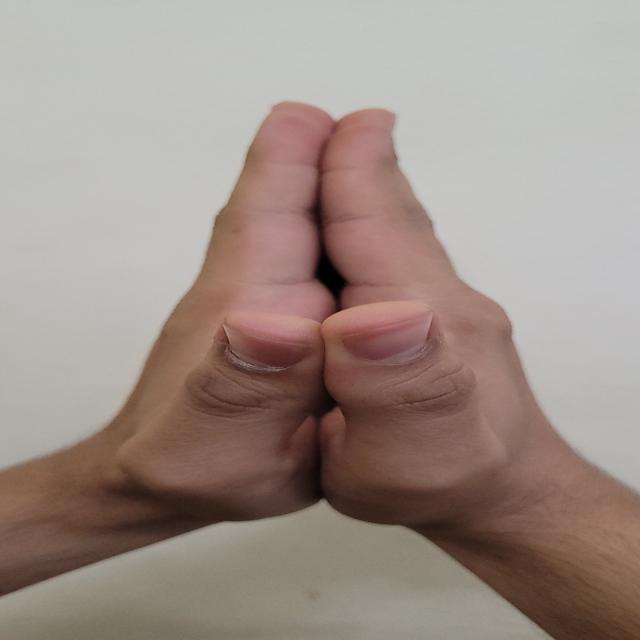Thank You: (16, 89, 640, 603)
